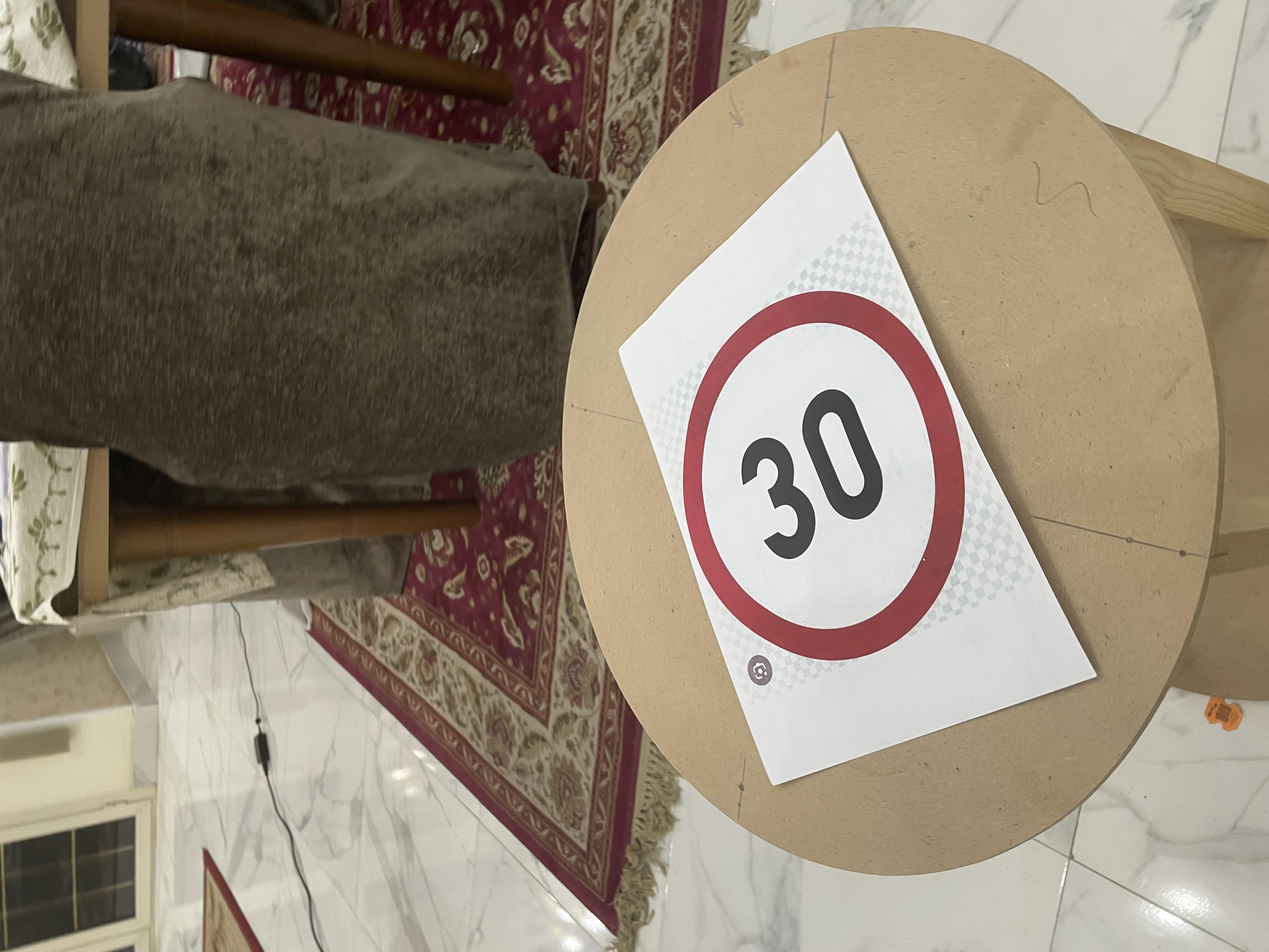30-speed: (381, 513, 895, 730)
